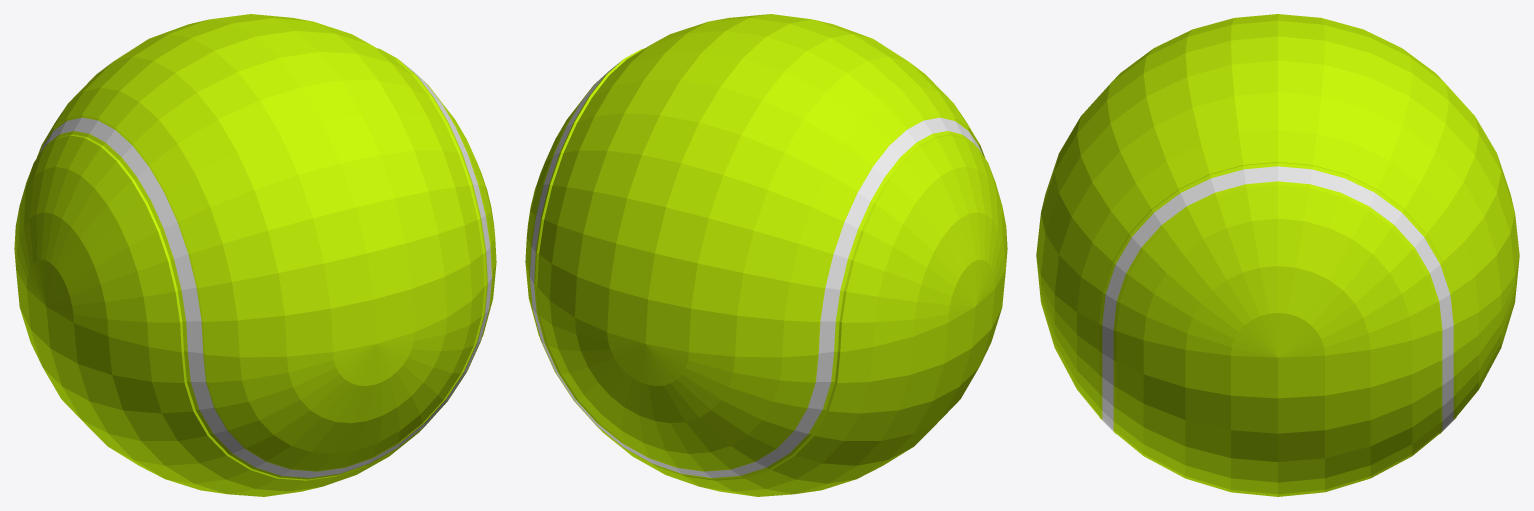
File: tennis.glb
3 renders of one model, left to right at view 1: azimuth 30°, elevation 25°; view 2: azimuth 150°, elevation 25°; view 3: azimuth 270°, elevation 25°, orthographic.
Parts seen in each view (by area): view 1: Sphere; view 2: Sphere; view 3: Sphere.
Boxes of the visible parts, left/top/right/bottom form: Sphere: left=14, top=14, right=496, bottom=496; Sphere: left=525, top=14, right=1007, bottom=496; Sphere: left=1036, top=14, right=1519, bottom=496.
Size of the model in its own units: 2 by 2 by 2.
